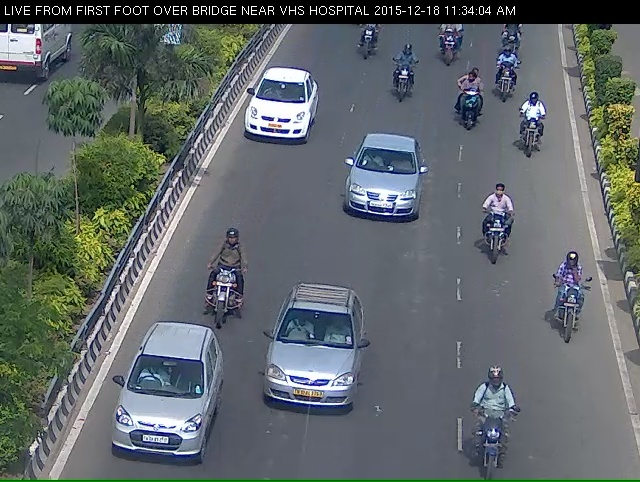Car: (257, 301, 374, 454), (114, 340, 211, 479), (329, 143, 436, 244), (244, 72, 319, 163)
Person: (196, 251, 250, 342), (550, 265, 597, 369), (468, 394, 524, 479), (470, 200, 517, 288), (450, 74, 492, 142), (516, 100, 552, 171), (430, 16, 471, 73), (387, 48, 417, 118), (493, 58, 525, 107), (349, 24, 380, 61), (499, 25, 528, 64)
